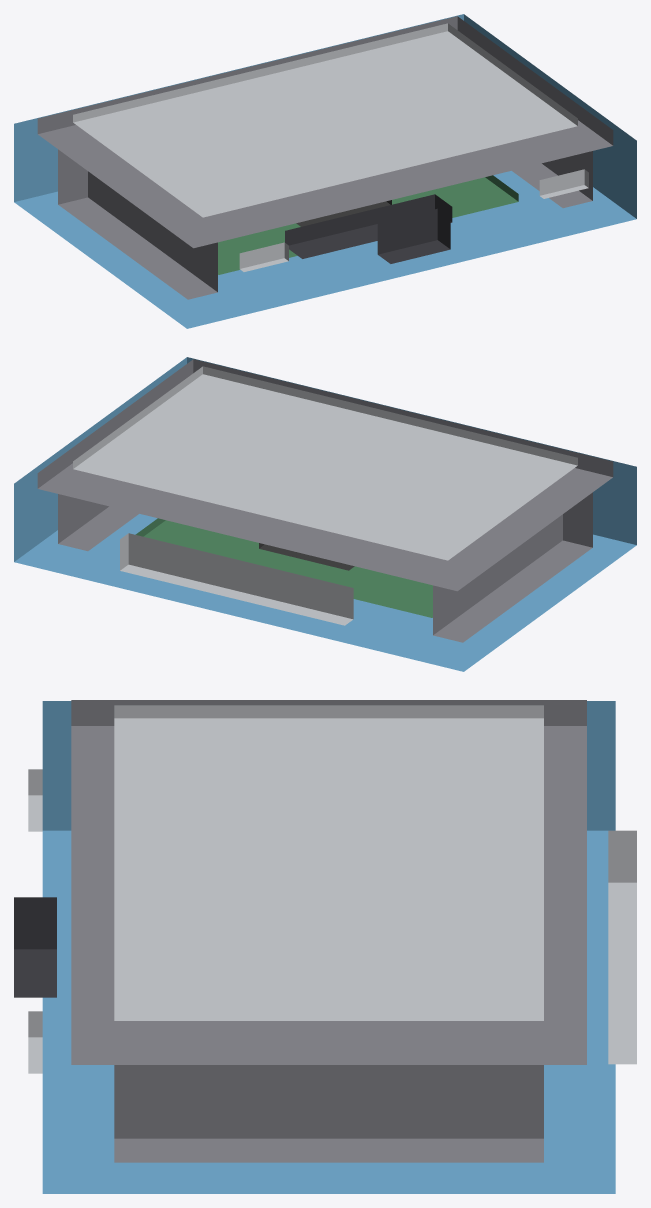
File: battery_compartment.gltf
The picture shows the model from 3 angles, top to bottom: view 1: azimuth 30°, elevation 25°; view 2: azimuth 150°, elevation 25°; view 3: azimuth 270°, elevation 25°; orthographic projection. The views are drawn at different scales.
Visible parts, largest first — view 1: battery_compartment; view 2: battery_compartment; view 3: battery_compartment.
Part boxes in pixels (x1,y1,x2,y2): battery_compartment: (14,14,636,328); battery_compartment: (14,357,636,671); battery_compartment: (14,700,636,1193).
Bounding box in the file's own units: 0.06 × 0.012 × 0.0435.
